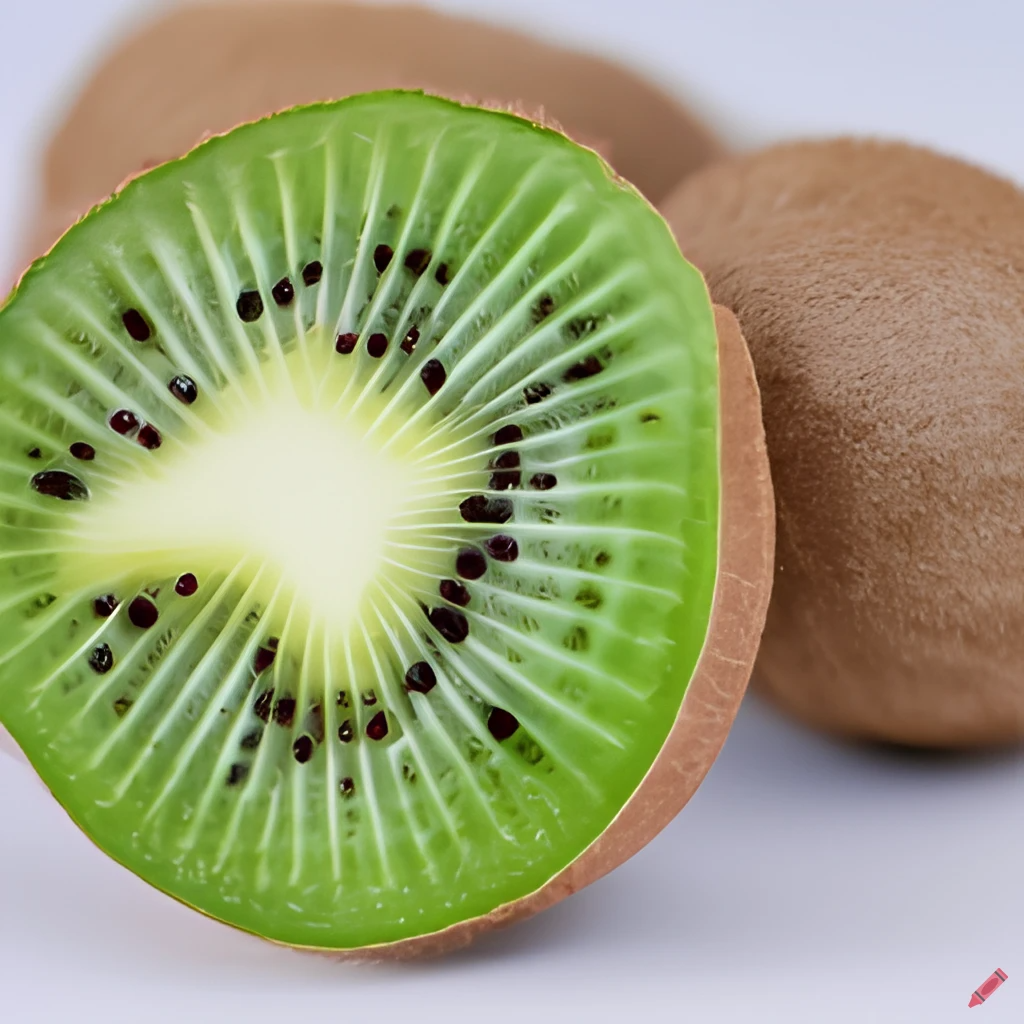Kiwi: (0, 98, 798, 956)
